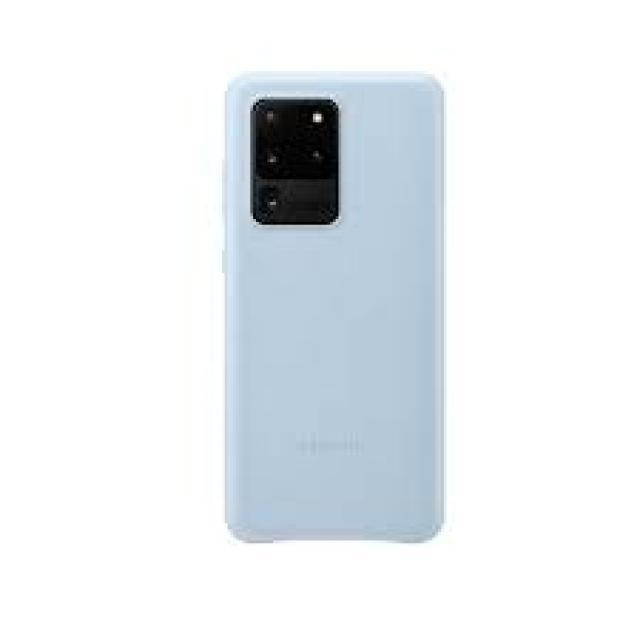phone: (216, 70, 452, 549)
